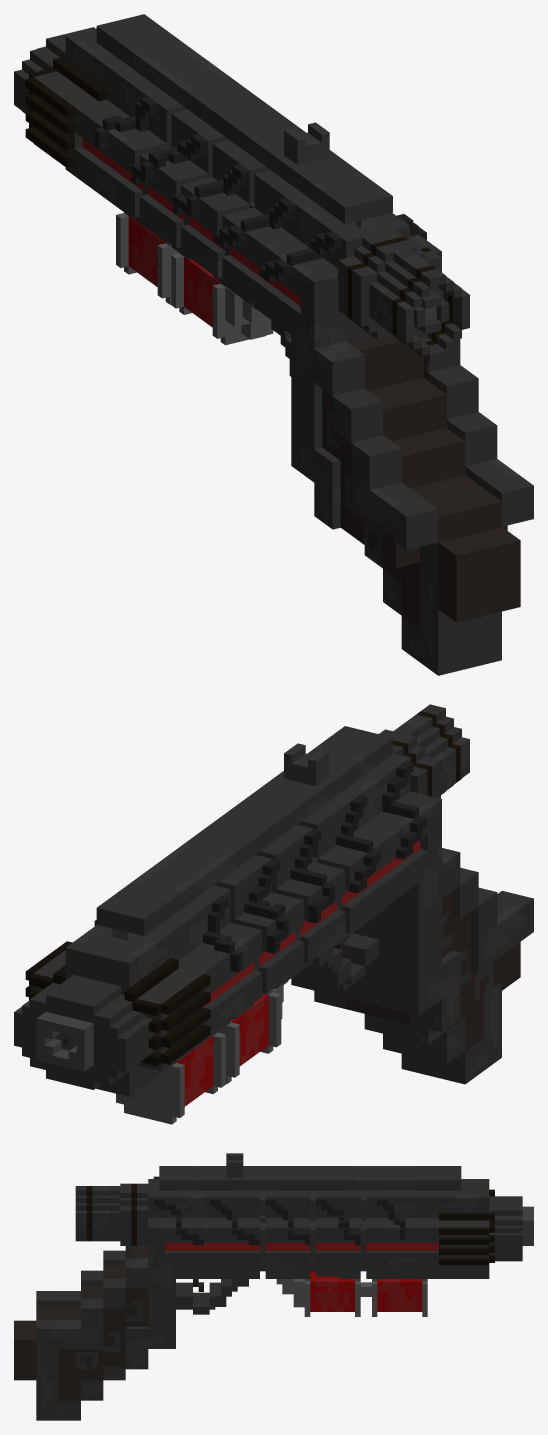
File: voron_pistol.glb
The picture shows the model from 3 angles, top to bottom: view 1: azimuth 30°, elevation 25°; view 2: azimuth 150°, elevation 25°; view 3: azimuth 270°, elevation 25°; orthographic projection. The views are drawn at different scales.
Parts seen in each view (by area): view 1: darkpisoll; view 2: darkpisoll; view 3: darkpisoll.
Boxes of the visible parts, x1,y1,x2,y2 form: darkpisoll: (14, 14, 533, 675); darkpisoll: (14, 704, 533, 1124); darkpisoll: (14, 1153, 533, 1420).
Size of the model in its own units: 1.8 by 5 by 9.3.
Materials: 1 (1 with a texture image).
